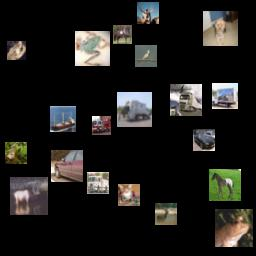automobile: (51, 150, 83, 182), (193, 129, 215, 151)
bird: (135, 45, 157, 67)
cat: (118, 184, 140, 206)
deer: (10, 177, 48, 215), (137, 2, 159, 24), (5, 142, 27, 164), (155, 203, 177, 225)
dog: (203, 11, 238, 46)
frog: (215, 209, 253, 247), (75, 31, 110, 66), (7, 41, 26, 60)
ship: (50, 106, 76, 132)
truck: (117, 92, 152, 127), (170, 84, 202, 116), (212, 83, 238, 109), (87, 172, 109, 194), (92, 116, 111, 135)
